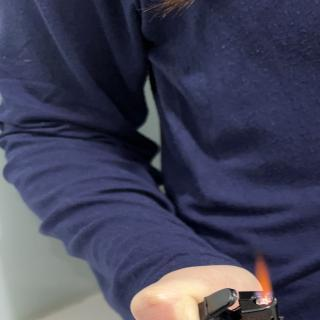fire: (255, 250, 273, 298)
